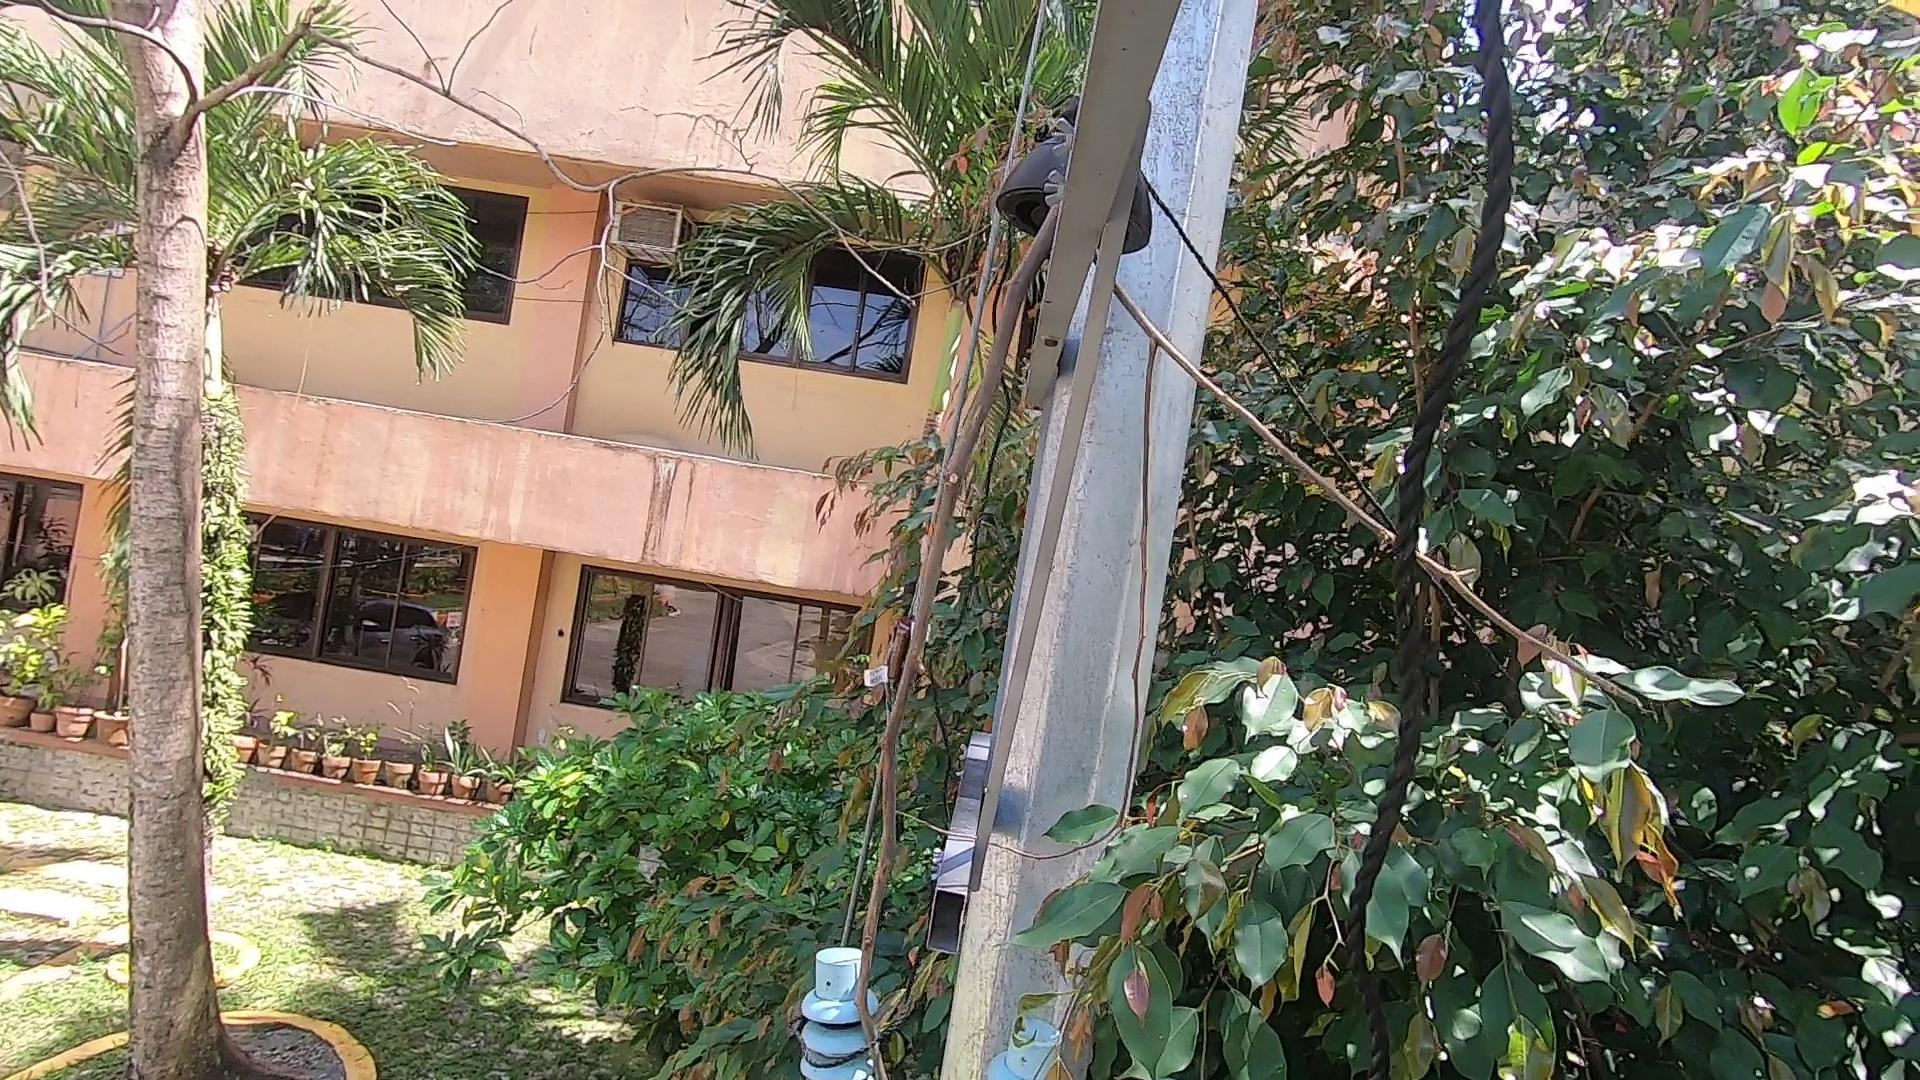branch with leaves: (952, 676, 1385, 1080)
tree branch: (831, 132, 1225, 1080)
